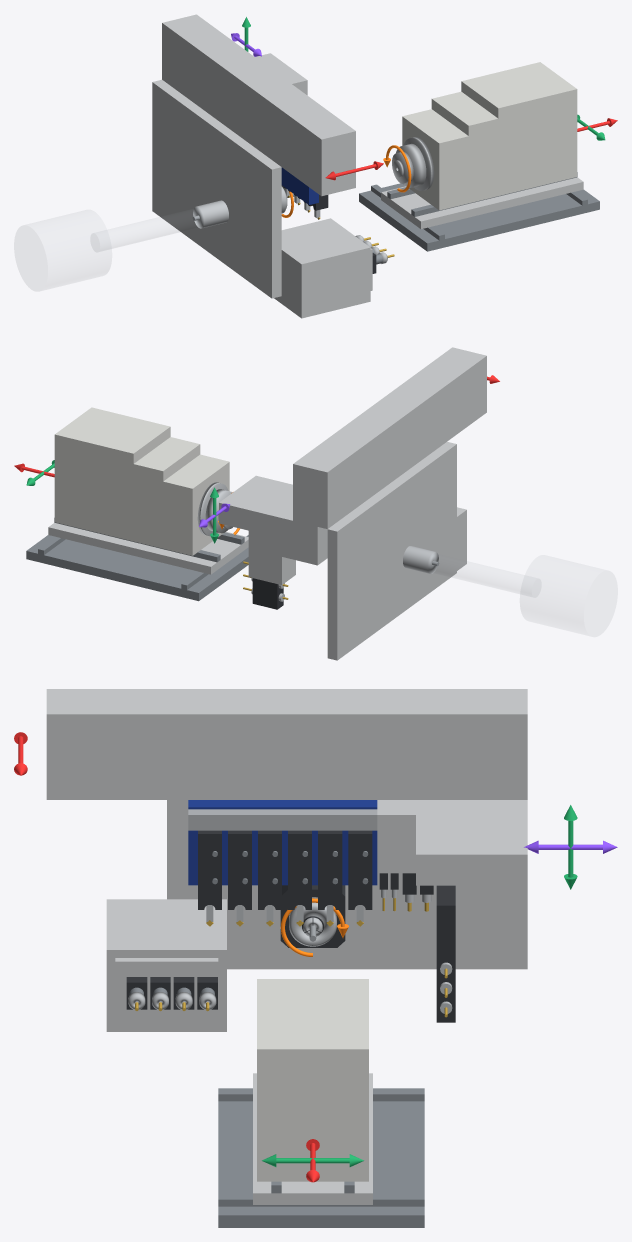
The model's file is sb20r_g_zone.glb.
The picture shows the model from 3 angles, top to bottom: view 1: azimuth 30°, elevation 25°; view 2: azimuth 150°, elevation 25°; view 3: azimuth 270°, elevation 25°; orthographic projection. The views are drawn at different scales.
Parts seen in each view (by area): view 1: spindle_support_wall, carrier_upper_beam, sub_carrier_block, rear_mount_block, carriage_base, sub_housing_step_2, X2_saddle, sub_housing_step_1, spindle_rotor, carrier_chamfered_bridge, gang_plate, sub_spindle_body (+1 smaller); view 2: spindle_support_wall, carrier_upper_beam, sub_carrier_block, carriage_base, sub_housing_step_2, carrier_chamfered_bridge, X2_saddle, sub_housing_step_1, carrier_right_body, carrier_right_column, T35_unit_plate, spindle_rotor (+3 smaller); view 3: carrier_upper_beam, spindle_support_wall, carriage_base, sub_carrier_block, rear_mount_block, carrier_chamfered_bridge, sub_housing_step_2, carrier_right_body, gang_plate, rear_tool_plate, gang_number_strip, X2_saddle (+13 smaller).
Part boxes in pixels (bbox=[...]): spindle_support_wall: bbox=[152, 79, 281, 298]; carrier_upper_beam: bbox=[162, 14, 355, 196]; sub_carrier_block: bbox=[402, 109, 577, 210]; rear_mount_block: bbox=[274, 218, 370, 318]; carriage_base: bbox=[359, 183, 599, 251]; sub_housing_step_2: bbox=[461, 62, 577, 118]; X2_saddle: bbox=[381, 177, 583, 228]; sub_housing_step_1: bbox=[431, 91, 577, 135]; spindle_rotor: bbox=[193, 200, 228, 228]; carrier_chamfered_bridge: bbox=[255, 53, 307, 95]; gang_plate: bbox=[281, 167, 318, 204]; sub_spindle_body: bbox=[396, 143, 426, 187]; spindle_support_wall: bbox=[327, 441, 456, 660]; carrier_upper_beam: bbox=[293, 347, 486, 528]; sub_carrier_block: bbox=[54, 454, 229, 555]; carriage_base: bbox=[26, 535, 248, 601]; sub_housing_step_2: bbox=[54, 407, 170, 463]; carrier_chamfered_bridge: bbox=[219, 475, 292, 556]; X2_saddle: bbox=[48, 523, 248, 574]; sub_housing_step_1: bbox=[54, 437, 200, 481]; carrier_right_body: bbox=[272, 501, 327, 565]; carrier_right_column: bbox=[248, 531, 295, 584]; T35_unit_plate: bbox=[252, 578, 283, 609]; spindle_rotor: bbox=[403, 546, 438, 573]; carrier_upper_beam: bbox=[46, 689, 527, 799]; spindle_support_wall: bbox=[167, 800, 527, 969]; carriage_base: bbox=[218, 1088, 424, 1227]; sub_carrier_block: bbox=[257, 979, 368, 1181]; rear_mount_block: bbox=[106, 899, 226, 1031]; carrier_chamfered_bridge: bbox=[416, 808, 527, 885]; sub_housing_step_2: bbox=[257, 991, 368, 1064]; carrier_right_body: bbox=[377, 800, 527, 873]; gang_plate: bbox=[188, 800, 377, 885]; rear_tool_plate: bbox=[115, 958, 218, 1023]; gang_number_strip: bbox=[188, 809, 377, 830]; X2_saddle: bbox=[253, 1073, 372, 1204].
Size of the model in its own units: 2.38 by 0.75 by 1.41.
